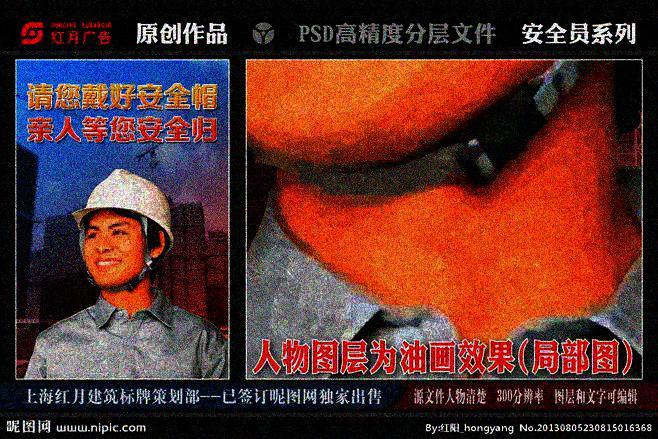helmet: (71, 168, 180, 291)
